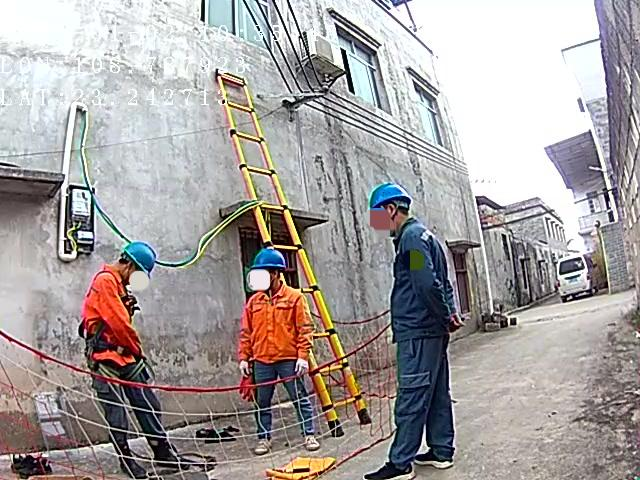halt: (368, 187, 416, 238), (251, 250, 290, 295), (119, 244, 159, 286)
inear: (383, 204, 404, 234)
